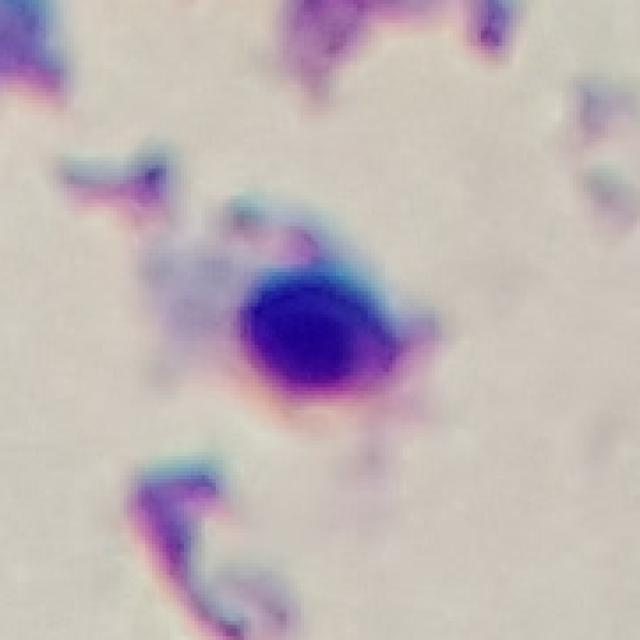non-sperm: (62, 154, 408, 398)
